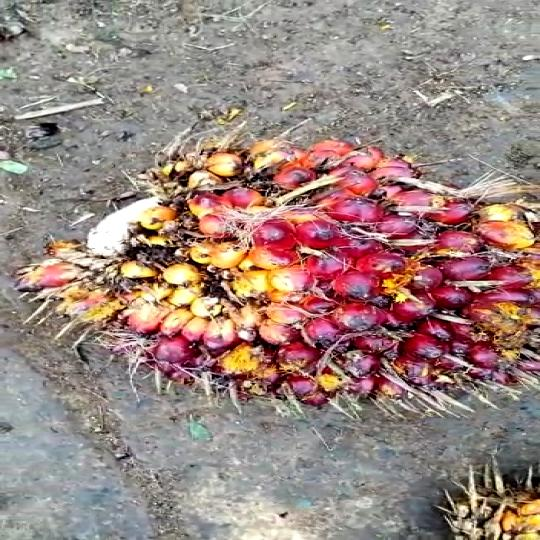masak: (17, 134, 540, 412)
